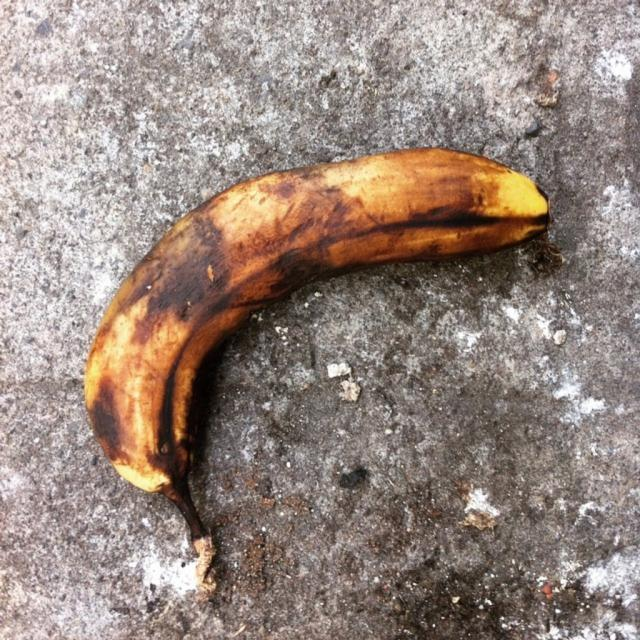Banana: (55, 158, 583, 560)
